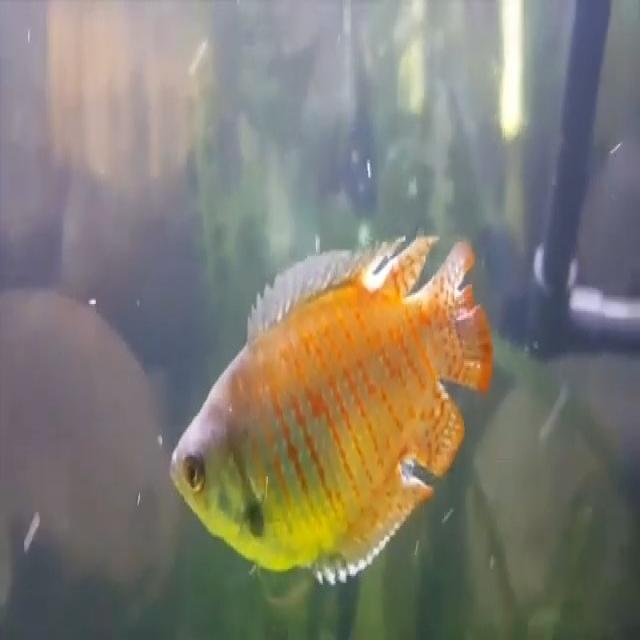fish: (167, 228, 490, 594)
